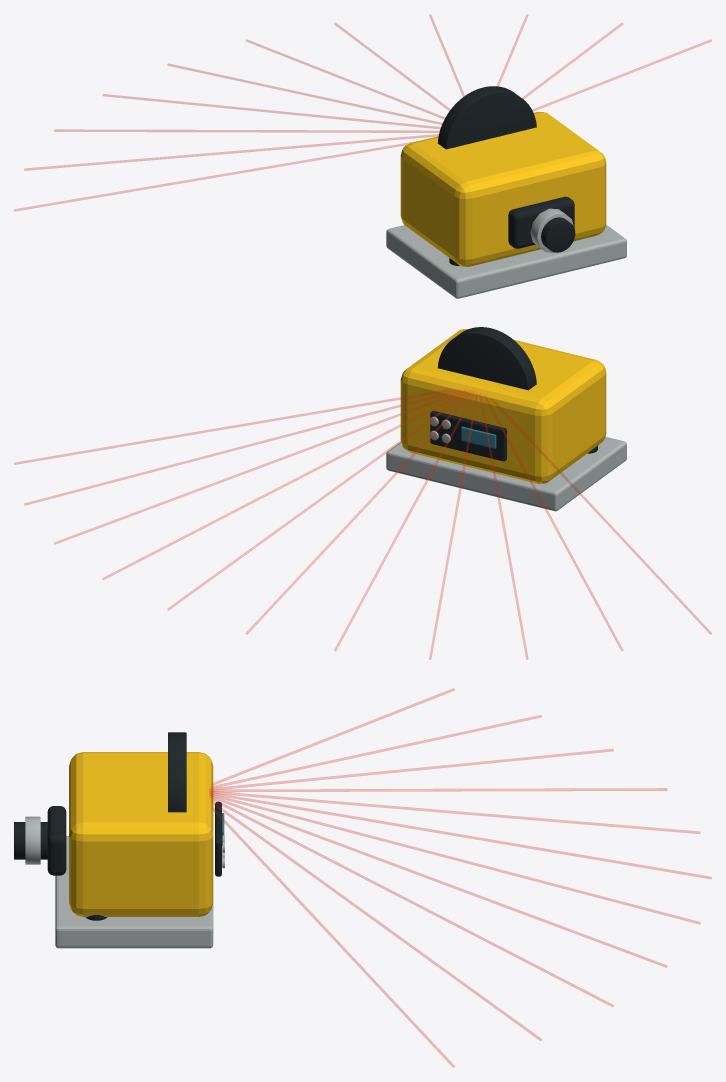
Rendered from safety_laser_scanner.glb.
3 renders of one model, top to bottom at view 1: azimuth 30°, elevation 25°; view 2: azimuth 150°, elevation 25°; view 3: azimuth 270°, elevation 25°, orthographic. The views are drawn at different scales.
Parts seen in each view (by area): view 1: SCANNER_body, SCANNER_mount_plate, OPTICS_cover, SYSTEM_plug, SCAN_ray_-48, SCAN_ray_-60, SYSTEM_M12_body, SCAN_ray_-36, SCAN_ray_-24, SCAN_ray_-12, SYSTEM_M12_nut, SCAN_ray_0 (+1 smaller); view 2: SCANNER_body, SCANNER_mount_plate, OPTICS_cover, DISPLAY_bezel, SCAN_ray_48, SCAN_ray_60, SCAN_ray_36, SCAN_ray_24, SCAN_ray_12, SCAN_ray_0, SCAN_ray_-60, SCAN_ray_-12 (+4 smaller); view 3: SCANNER_body, SCANNER_mount_plate, OPTICS_cover, SCAN_ray_0, SCAN_ray_12, SCAN_ray_-12, SYSTEM_plug, SCAN_ray_24, SCAN_ray_-24, SCAN_ray_36, SCAN_ray_48, SCAN_ray_-36 (+5 smaller).
Boxes of the visible parts, bbox=[...] form: SCANNER_body: bbox=[400, 112, 606, 266]; SCANNER_mount_plate: bbox=[386, 224, 626, 298]; OPTICS_cover: bbox=[437, 86, 536, 149]; SYSTEM_plug: bbox=[508, 196, 574, 248]; SCAN_ray_-48: bbox=[24, 134, 438, 170]; SCAN_ray_-60: bbox=[14, 142, 411, 211]; SYSTEM_M12_body: bbox=[531, 210, 575, 252]; SCAN_ray_-36: bbox=[54, 129, 439, 132]; SCAN_ray_-24: bbox=[102, 94, 440, 128]; SCAN_ray_-12: bbox=[167, 63, 442, 124]; SYSTEM_M12_nut: bbox=[530, 208, 573, 252]; SCAN_ray_0: bbox=[246, 39, 444, 118]; SCANNER_body: bbox=[400, 329, 606, 483]; SCANNER_mount_plate: bbox=[386, 436, 626, 511]; OPTICS_cover: bbox=[437, 327, 536, 390]; DISPLAY_bezel: bbox=[430, 410, 506, 461]; SCAN_ray_48: bbox=[24, 389, 460, 505]; SCAN_ray_60: bbox=[14, 389, 451, 464]; SCAN_ray_36: bbox=[54, 389, 465, 544]; SCAN_ray_24: bbox=[102, 390, 468, 579]; SCAN_ray_12: bbox=[167, 390, 470, 610]; SCAN_ray_0: bbox=[246, 391, 472, 634]; SCAN_ray_-60: bbox=[491, 399, 711, 634]; SCAN_ray_-12: bbox=[334, 392, 475, 650]; SCANNER_body: bbox=[69, 752, 213, 916]; SCANNER_mount_plate: bbox=[55, 836, 213, 948]; OPTICS_cover: bbox=[168, 732, 186, 812]; SCAN_ray_0: bbox=[209, 792, 711, 878]; SCAN_ray_12: bbox=[209, 793, 700, 924]; SCAN_ray_-12: bbox=[210, 791, 700, 833]; SYSTEM_plug: bbox=[47, 806, 66, 875]; SCAN_ray_24: bbox=[210, 795, 667, 967]; SCAN_ray_-24: bbox=[209, 788, 667, 791]; SCAN_ray_36: bbox=[210, 797, 613, 1006]; SCAN_ray_48: bbox=[211, 800, 541, 1040]; SCAN_ray_-36: bbox=[210, 749, 613, 789].
Size of the model in its own units: 2.6 by 0.53 by 2.03.
